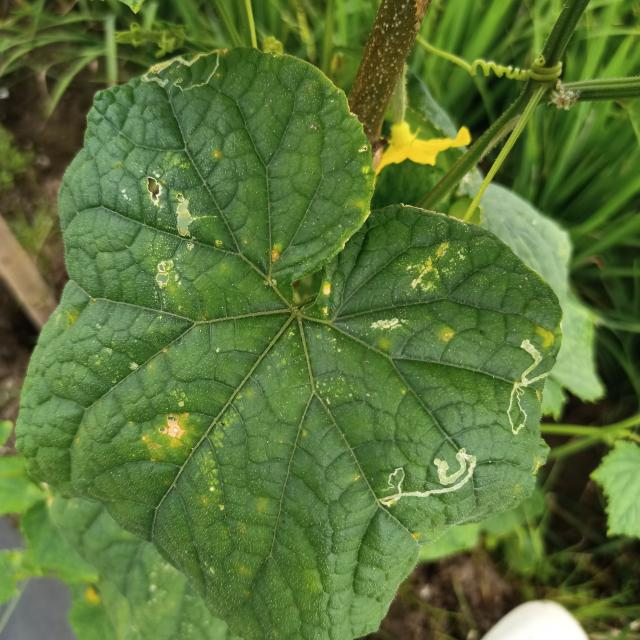disease_cucumber: (138, 167, 204, 299), (404, 237, 467, 297), (144, 391, 196, 457), (371, 310, 412, 336), (533, 323, 558, 355), (318, 283, 337, 321), (527, 456, 546, 477), (440, 326, 458, 348), (268, 242, 283, 265)
